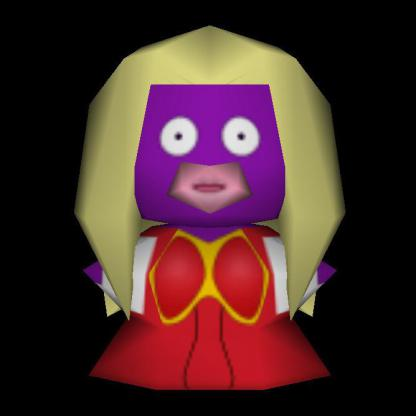Jynx: (1, 1, 336, 416)
